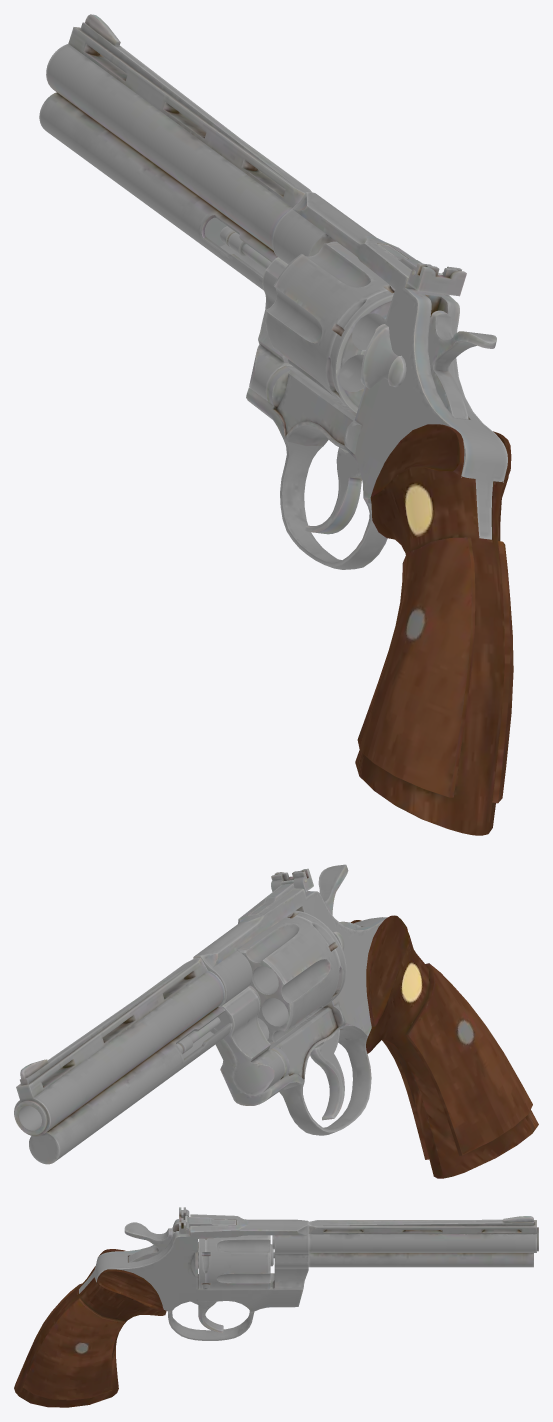
Rendered from revolver.glb.
3 views of the same model, one above another, from view 1: azimuth 30°, elevation 25°; view 2: azimuth 150°, elevation 25°; view 3: azimuth 270°, elevation 25° (orthographic). The views are drawn at different scales.
Visible parts, largest first — view 1: grip_low.001, barrel_low.001, body_low.001, wheel_low.001, Hammer_low.001, wheel_rot_low.001, trigger_low.001, slot_low.001, sight_low.001; view 2: grip_low.001, barrel_low.001, body_low.001, wheel_low.001, wheel_rot_low.001, trigger_low.001, Hammer_low.001, sight_low.001, handle_low.001, sight_fixed_low.001; view 3: grip_low.001, barrel_low.001, body_low.001, wheel_low.001, Hammer_low.001, trigger_low.001, sight_fixed_low.001, sight_low.001.
Part boxes in pixels (<box>): grip_low.001: <box>355,424,513,835</box>; barrel_low.001: <box>39,14,311,290</box>; body_low.001: <box>246,192,507,569</box>; wheel_low.001: <box>265,242,395,412</box>; Hammer_low.001: <box>428,310,496,419</box>; wheel_rot_low.001: <box>249,257,292,401</box>; trigger_low.001: <box>304,447,361,534</box>; slot_low.001: <box>360,324,398,389</box>; sight_low.001: <box>407,263,466,296</box>; grip_low.001: <box>350,915,538,1178</box>; barrel_low.001: <box>14,958,232,1164</box>; body_low.001: <box>193,888,387,1135</box>; wheel_low.001: <box>238,910,346,1044</box>; wheel_rot_low.001: <box>214,987,285,1095</box>; trigger_low.001: <box>310,1030,344,1120</box>; Hammer_low.001: <box>318,864,360,929</box>; sight_low.001: <box>271,868,313,892</box>; handle_low.001: <box>176,985,260,1054</box>; sight_fixed_low.001: <box>248,880,294,915</box>; grip_low.001: <box>14,1249,166,1407</box>; barrel_low.001: <box>308,1216,538,1267</box>; body_low.001: <box>79,1214,308,1340</box>; wheel_low.001: <box>198,1235,270,1289</box>; Hammer_low.001: <box>124,1222,174,1262</box>; trigger_low.001: <box>191,1301,223,1332</box>; sight_fixed_low.001: <box>185,1215,236,1227</box>; sight_low.001: <box>179,1207,189,1234</box>.
Size of the model in its own units: 0.0669 by 0.1324 by 0.2894.
Materials: 1 (1 with a texture image).
